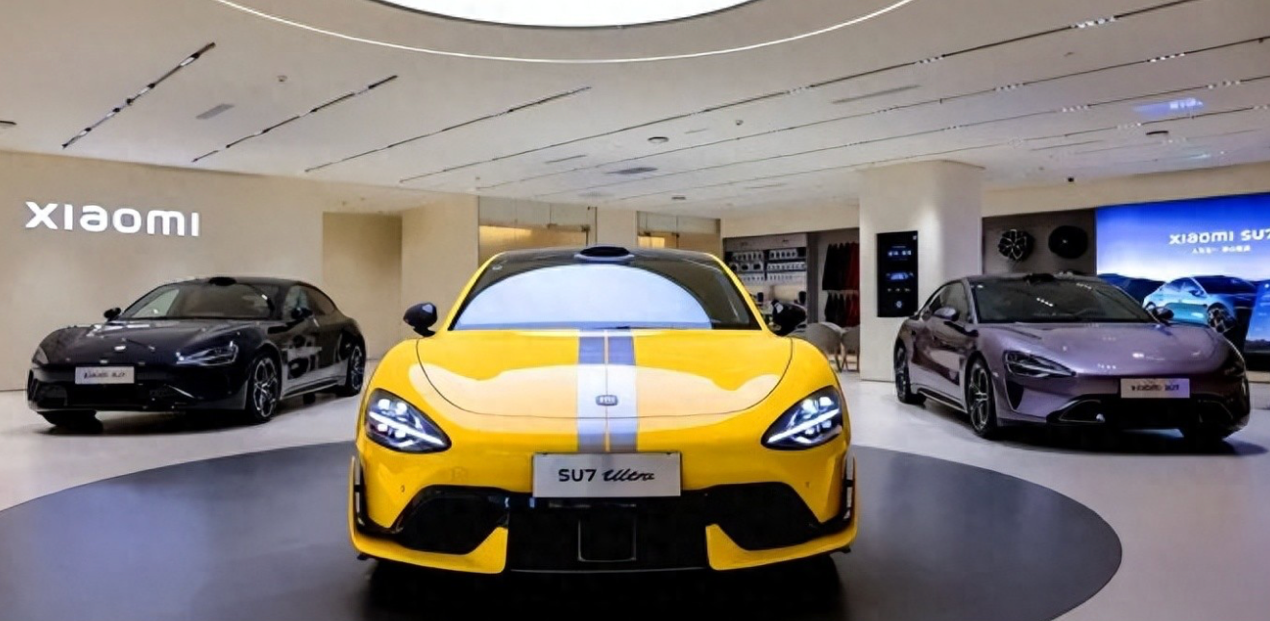su7: (347, 242, 865, 595), (888, 264, 1240, 446), (38, 280, 365, 431)
